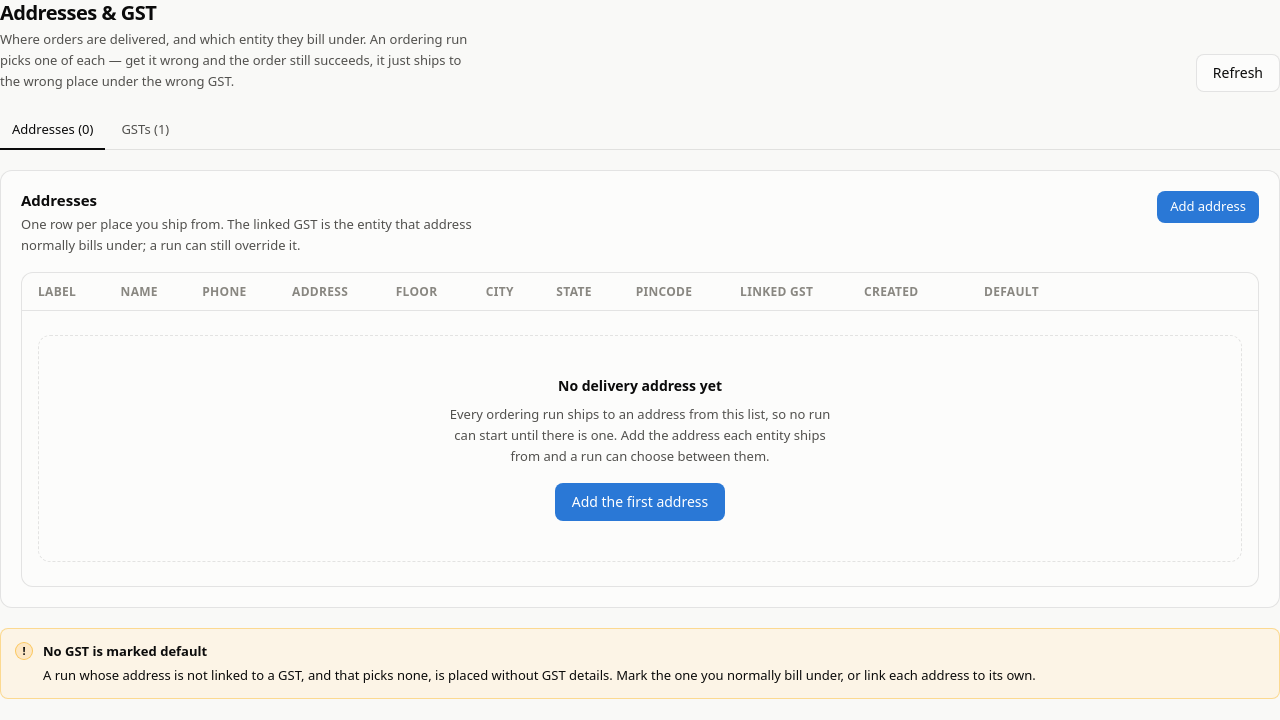
Scenario: Address Book: the note after deleting a GST › counts what the server unlinked, not what the list said
Click the tab "GSTs (1)" at point(145, 131), box [109,112,181,150]
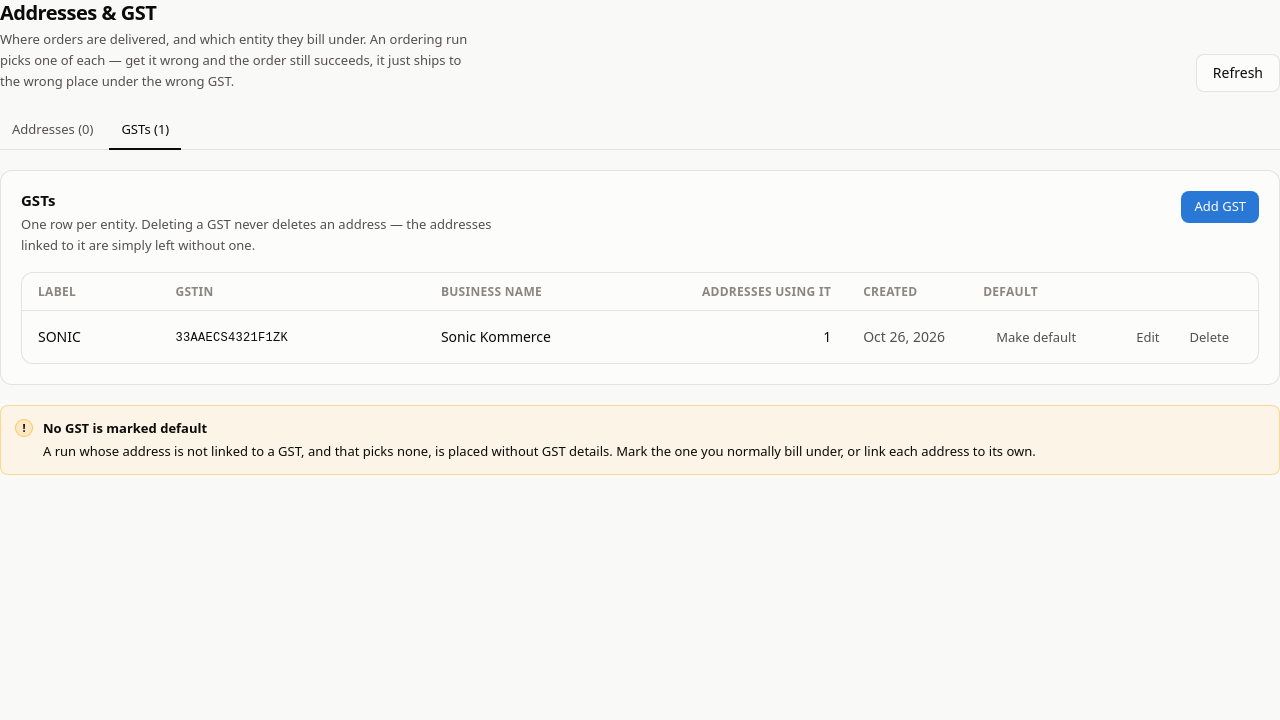
Click the button "Delete" at point(1209, 337), box [1176,321,1242,353]
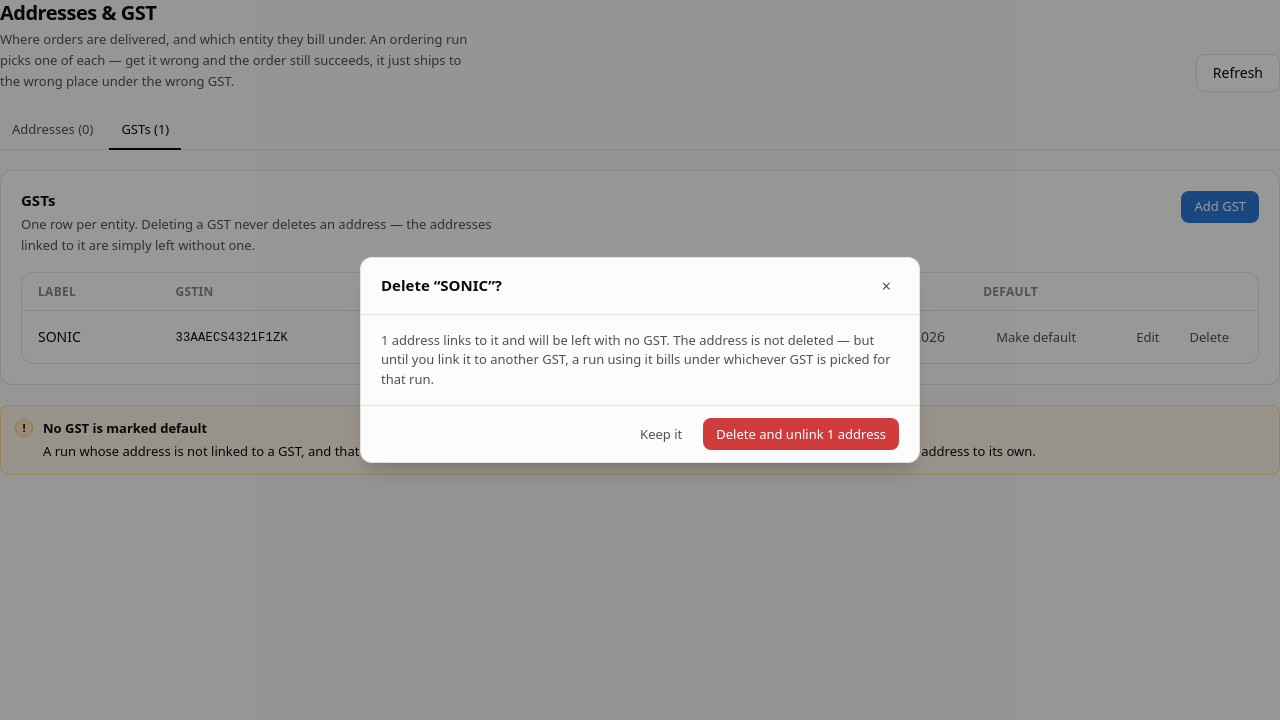
Click the button "Delete and unlink 1 address" at point(801, 434), box [703,418,899,450]
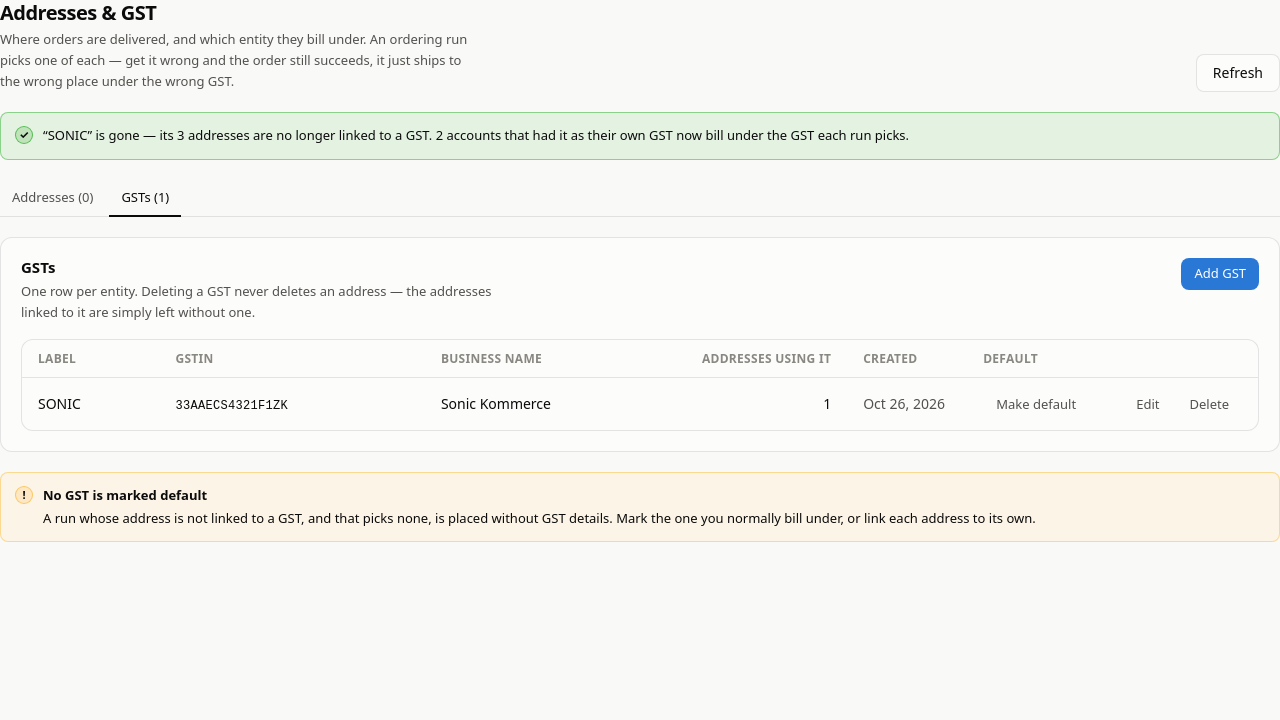
Result: the text "2 accounts that had it as their own GST now bill under the GST each run picks" is shown at [43,126,909,144]
